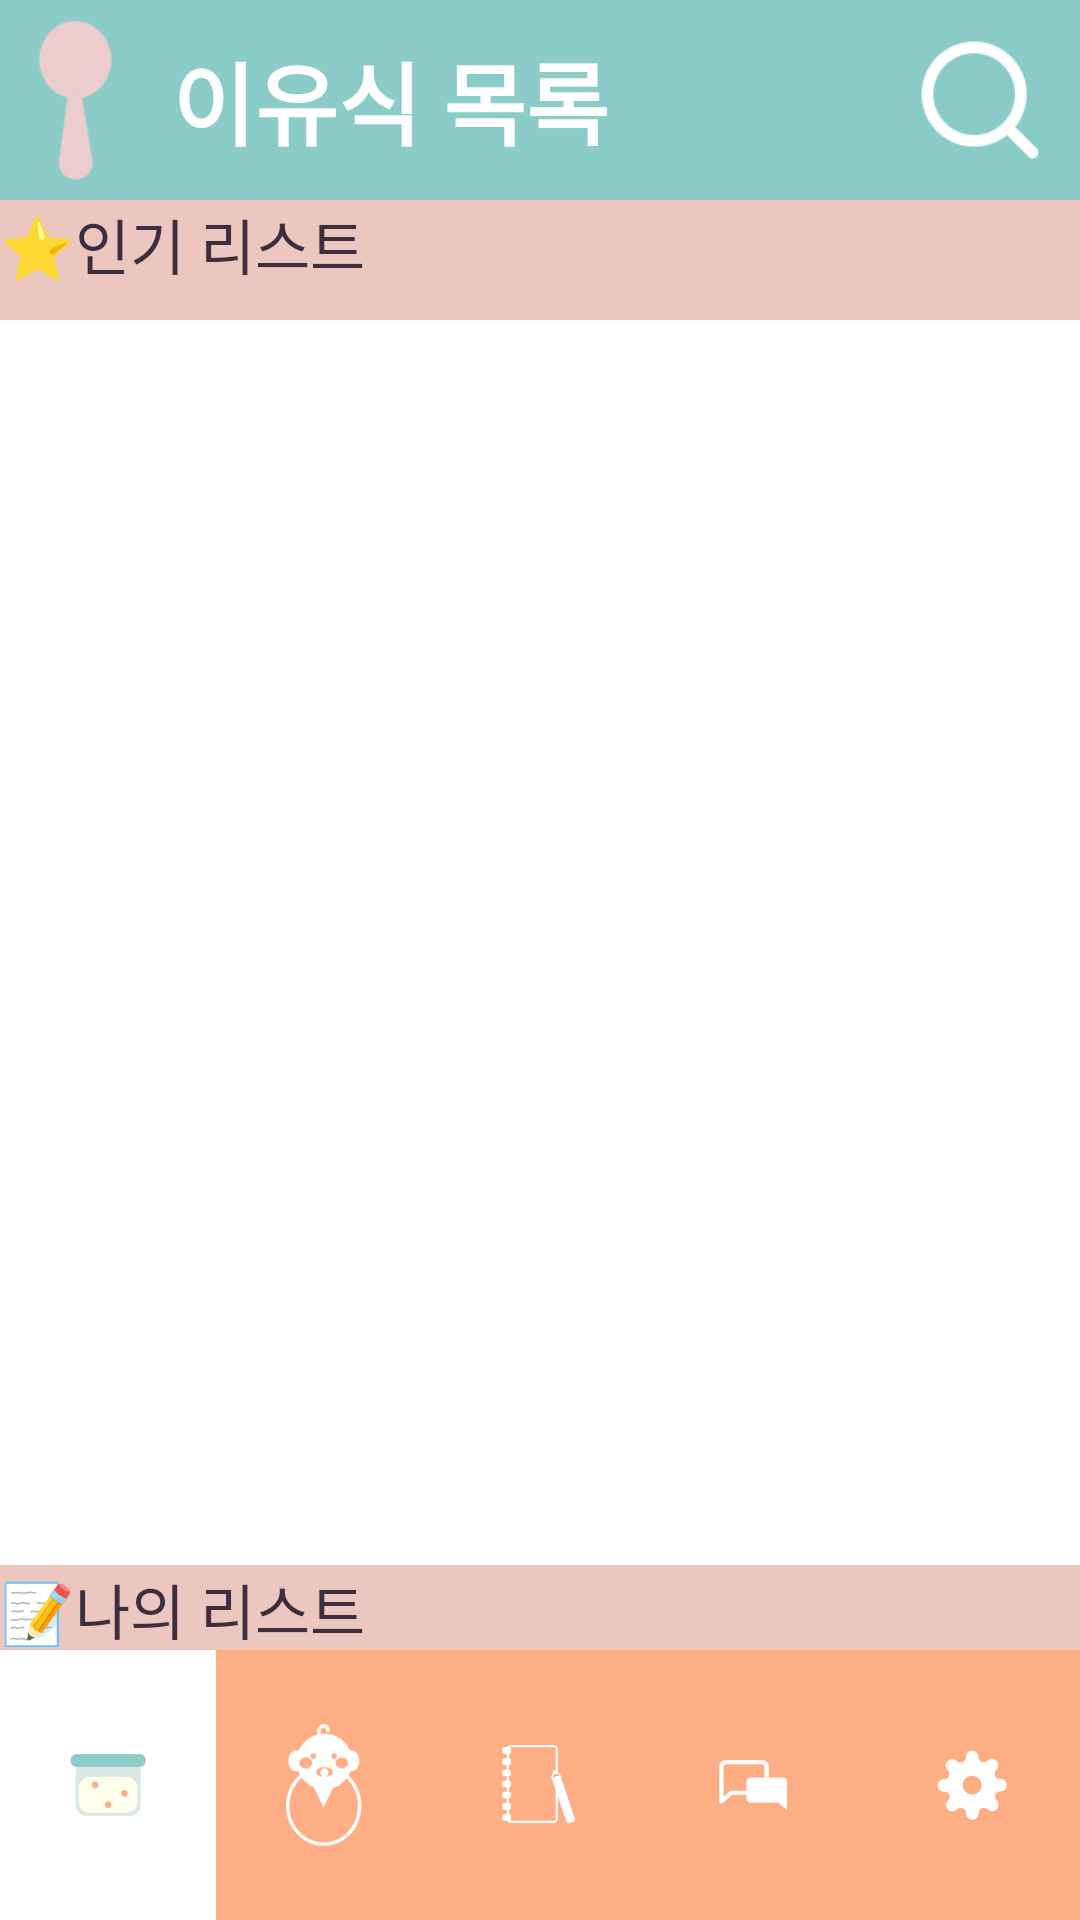

Where icons sit on this 1080px x 1920px app screen, as (x1, y1, x2, y2):
babybutton: (286, 1724, 362, 1846)
communitybutton: (719, 1760, 787, 1810)
diarybutton: (502, 1745, 575, 1823)
search: (921, 41, 1039, 159)
settingbutton: (937, 1750, 1007, 1820)
spoon: (38, 20, 112, 180)
